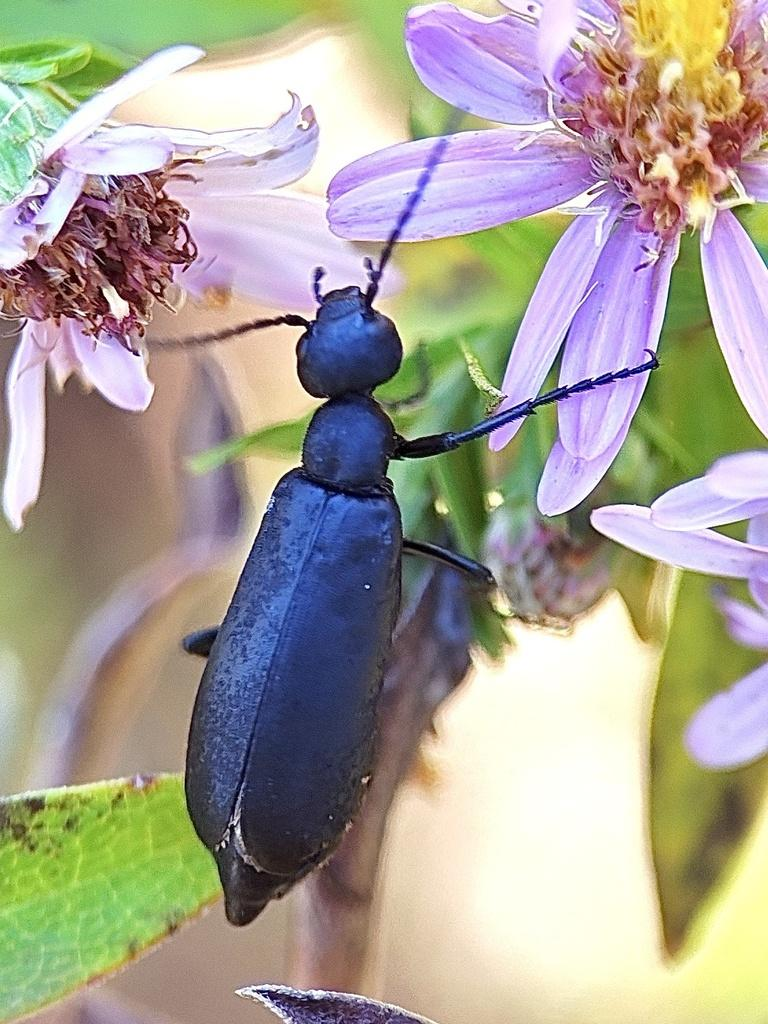blister_beetle: (2, 9, 768, 1024)
